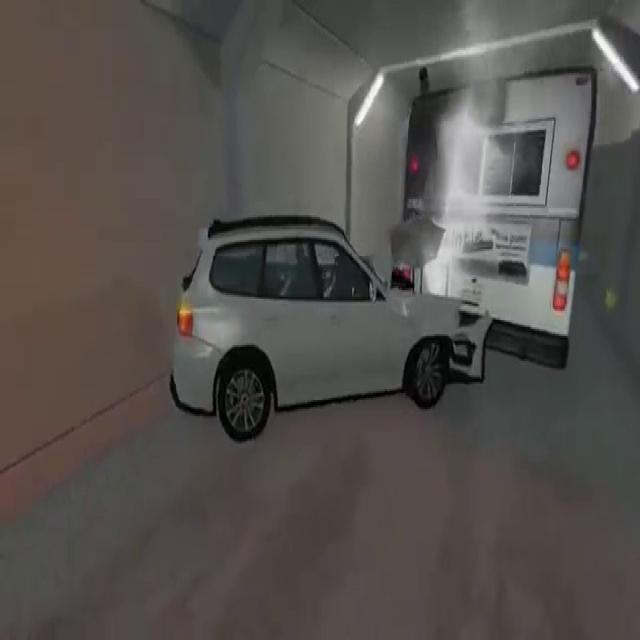severe: (165, 58, 606, 449)
